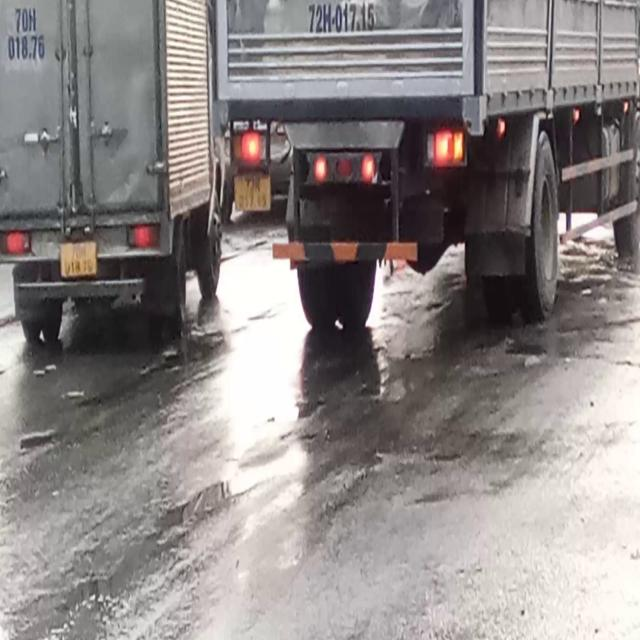bien_vang: (232, 167, 274, 214), (64, 242, 95, 280)
